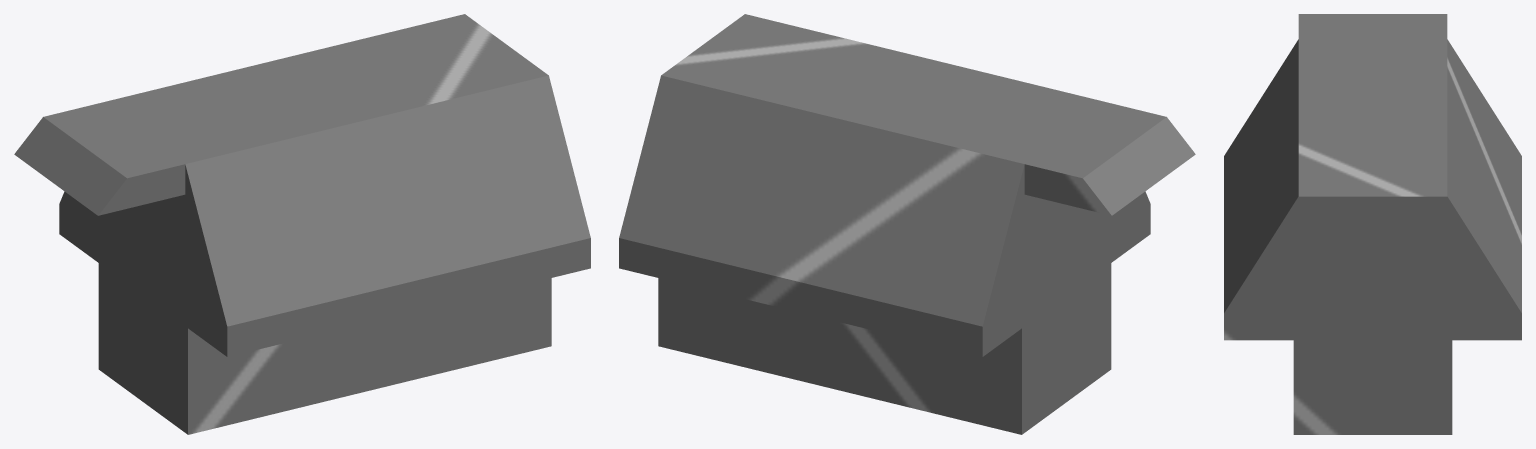
The model's file is FEP-S6P-Magazine.obj.
3 renders of one model, left to right at view 1: azimuth 30°, elevation 25°; view 2: azimuth 150°, elevation 25°; view 3: azimuth 270°, elevation 25°, orthographic. The views are drawn at different scales.
Visible parts, largest first — view 1: FEP-S6P-Magazine; view 2: FEP-S6P-Magazine; view 3: FEP-S6P-Magazine.
Boxes of the visible parts, x1,y1,x2,y2 form: FEP-S6P-Magazine: (14, 14, 590, 434); FEP-S6P-Magazine: (619, 14, 1195, 434); FEP-S6P-Magazine: (1224, 14, 1521, 434).
Size of the model in its own units: 1.55 by 0.883 by 1.
